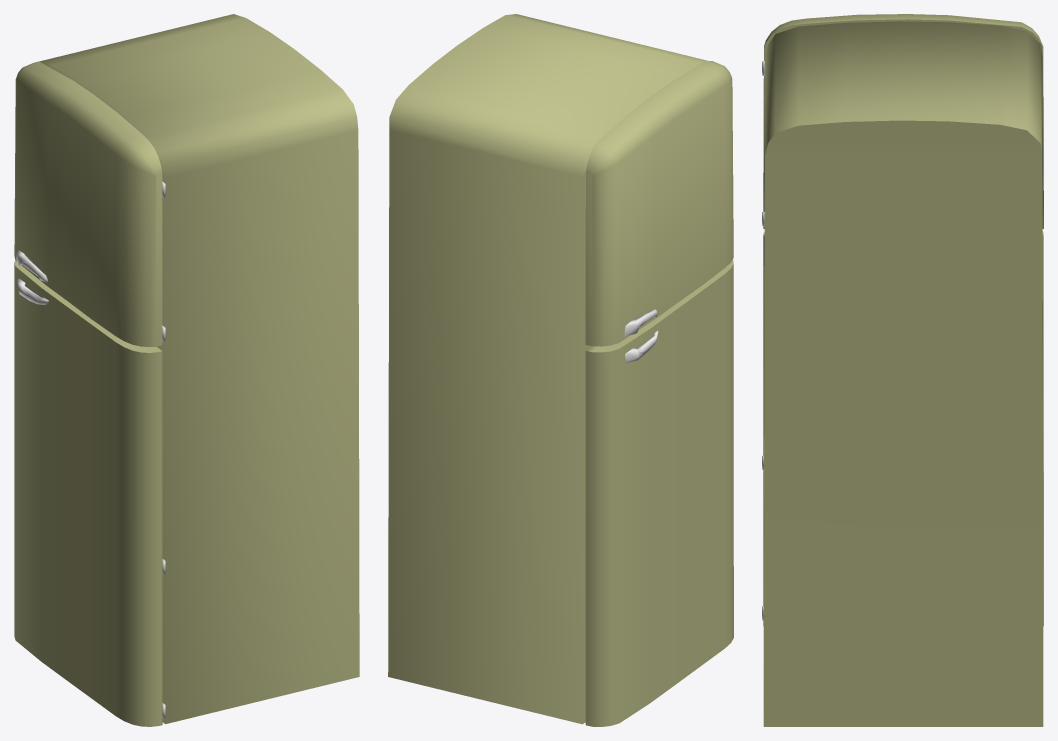
The model's file is fridge.fbx.
3 views of the same model, side by side, from view 1: azimuth 30°, elevation 25°; view 2: azimuth 150°, elevation 25°; view 3: azimuth 270°, elevation 25° (orthographic). The views are drawn at different scales.
Visible parts, largest first — view 1: fridge.001; view 2: fridge.001; view 3: fridge.001.
Part boxes in pixels (bbox=[...]): fridge.001: bbox=[14, 14, 359, 726]; fridge.001: bbox=[388, 14, 733, 726]; fridge.001: bbox=[762, 14, 1043, 726].
Bounding box in the file's own units: 23.14 × 23.68 × 56.23.
